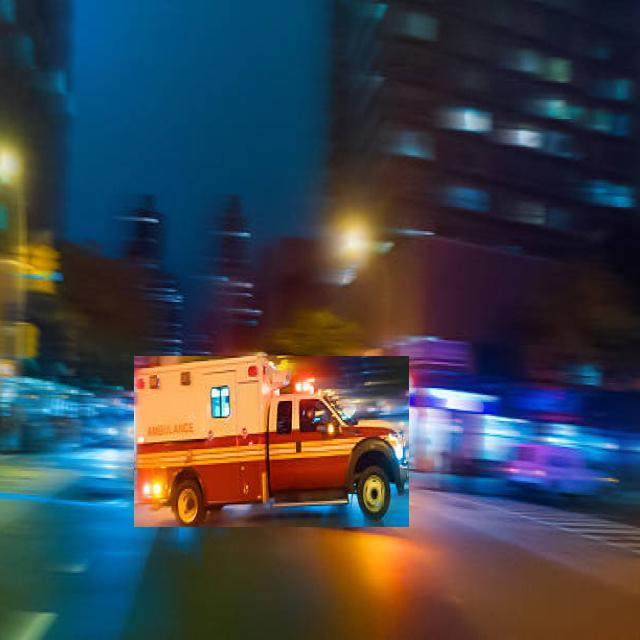emergency: (134, 357, 409, 527)
